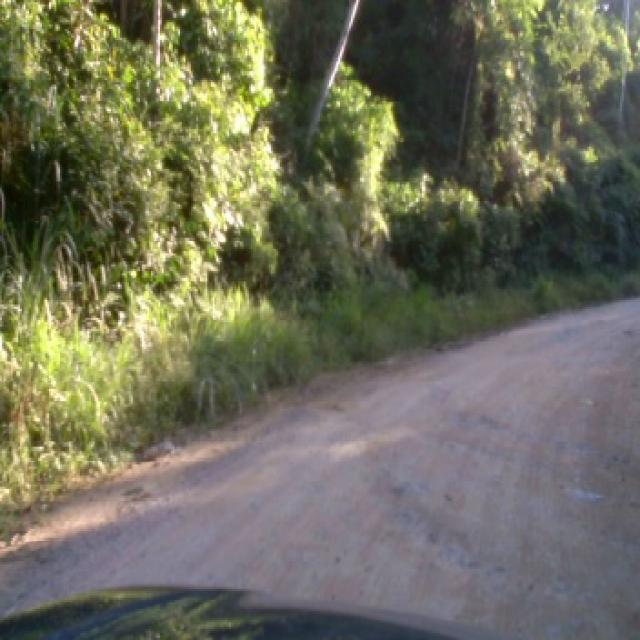Poth-hole: (378, 480, 516, 584), (443, 411, 512, 431), (566, 482, 606, 502)
